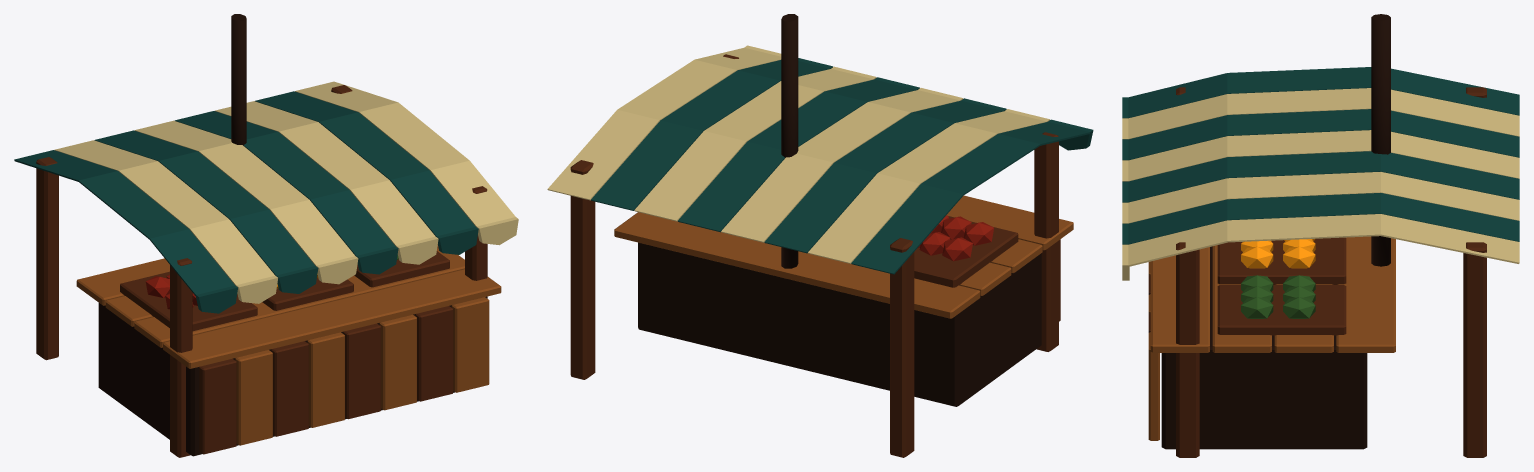
The model's file is market_stall.obj.
3 renders of one model, left to right at view 1: azimuth 30°, elevation 25°; view 2: azimuth 150°, elevation 25°; view 3: azimuth 270°, elevation 25°, orthographic. The views are drawn at different scales.
Visible parts, largest first — view 1: market_stall; view 2: market_stall; view 3: market_stall.
Boxes of the visible parts, x1,y1,x2,y2 form: market_stall: (14,14,518,457); market_stall: (547,14,1093,457); market_stall: (1122,14,1519,457).
Size of the model in its own units: 1 by 1 by 1.
